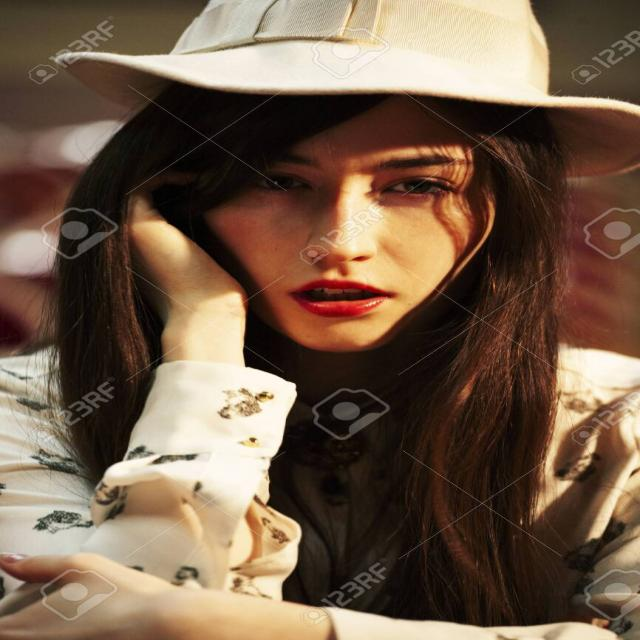hat: (57, 1, 640, 356)
